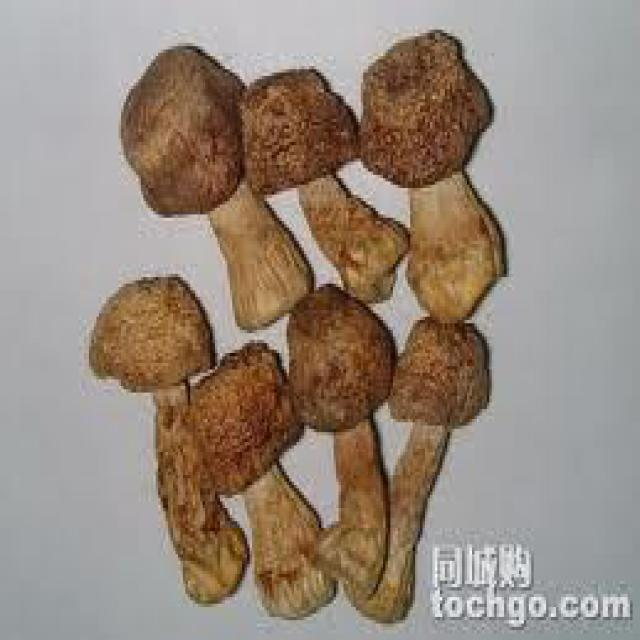Agaricus blazei Murill: (122, 40, 318, 310), (94, 283, 259, 600), (358, 28, 512, 321), (241, 66, 413, 296), (370, 315, 488, 622), (202, 346, 337, 606), (284, 286, 396, 589)
